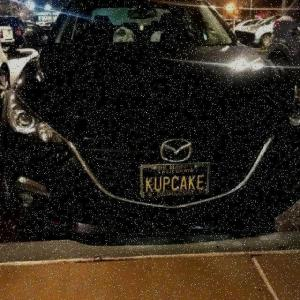Plate: (139, 162, 211, 198)
